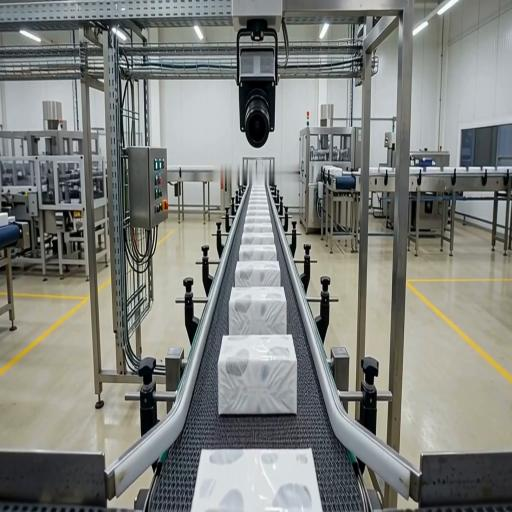good: (191, 446, 321, 512), (218, 334, 297, 416), (227, 286, 288, 337), (234, 260, 281, 288), (239, 222, 277, 250), (236, 245, 278, 264), (242, 207, 274, 228), (245, 194, 271, 210), (247, 184, 269, 196)
